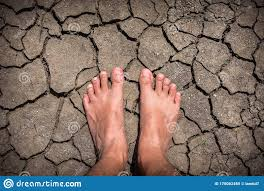Feet: (81, 67, 129, 166), (135, 67, 182, 166)
